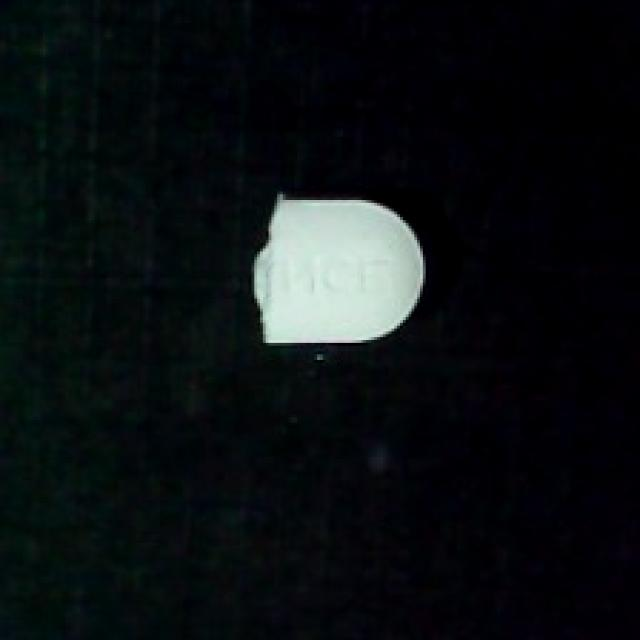defected: (234, 189, 437, 363)
